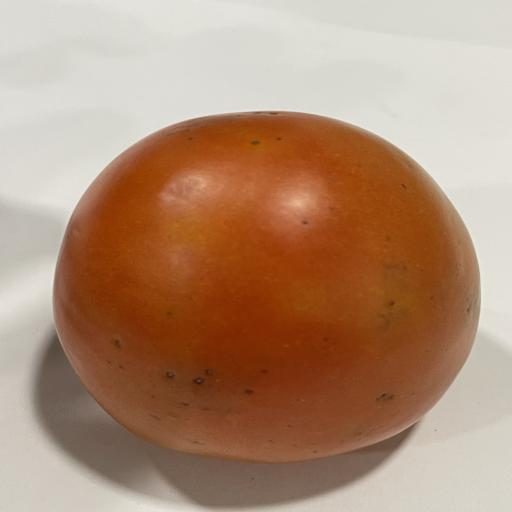ripe: (54, 111, 480, 462)
